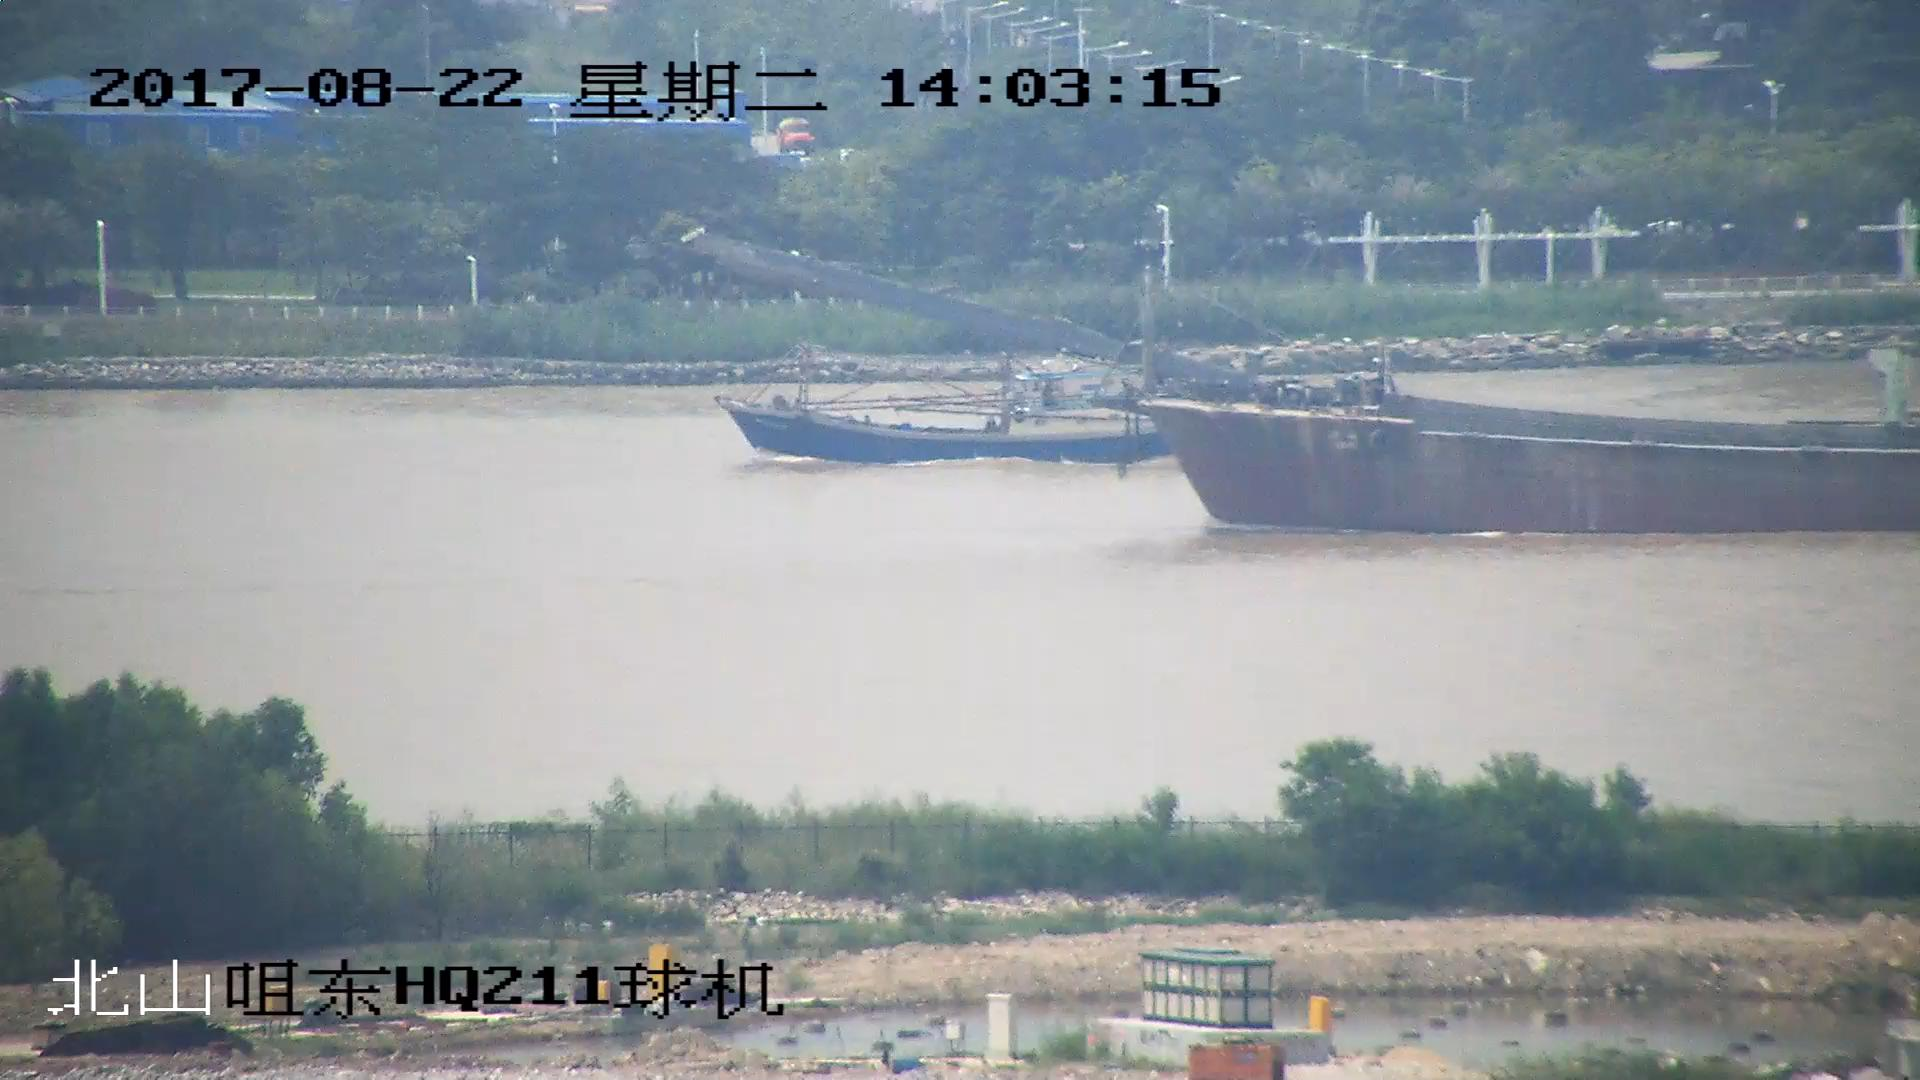bulk cargo carrier: (682, 225, 1920, 536)
fishing boat: (721, 346, 1167, 469)
